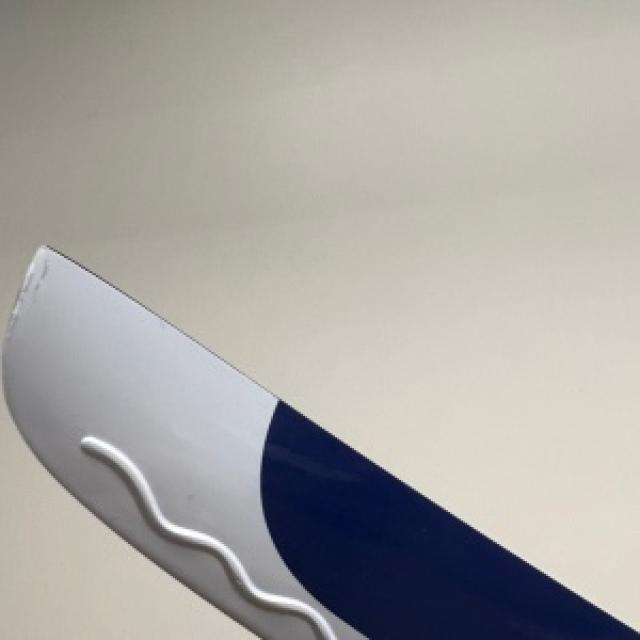healthy: (4, 247, 638, 638)
